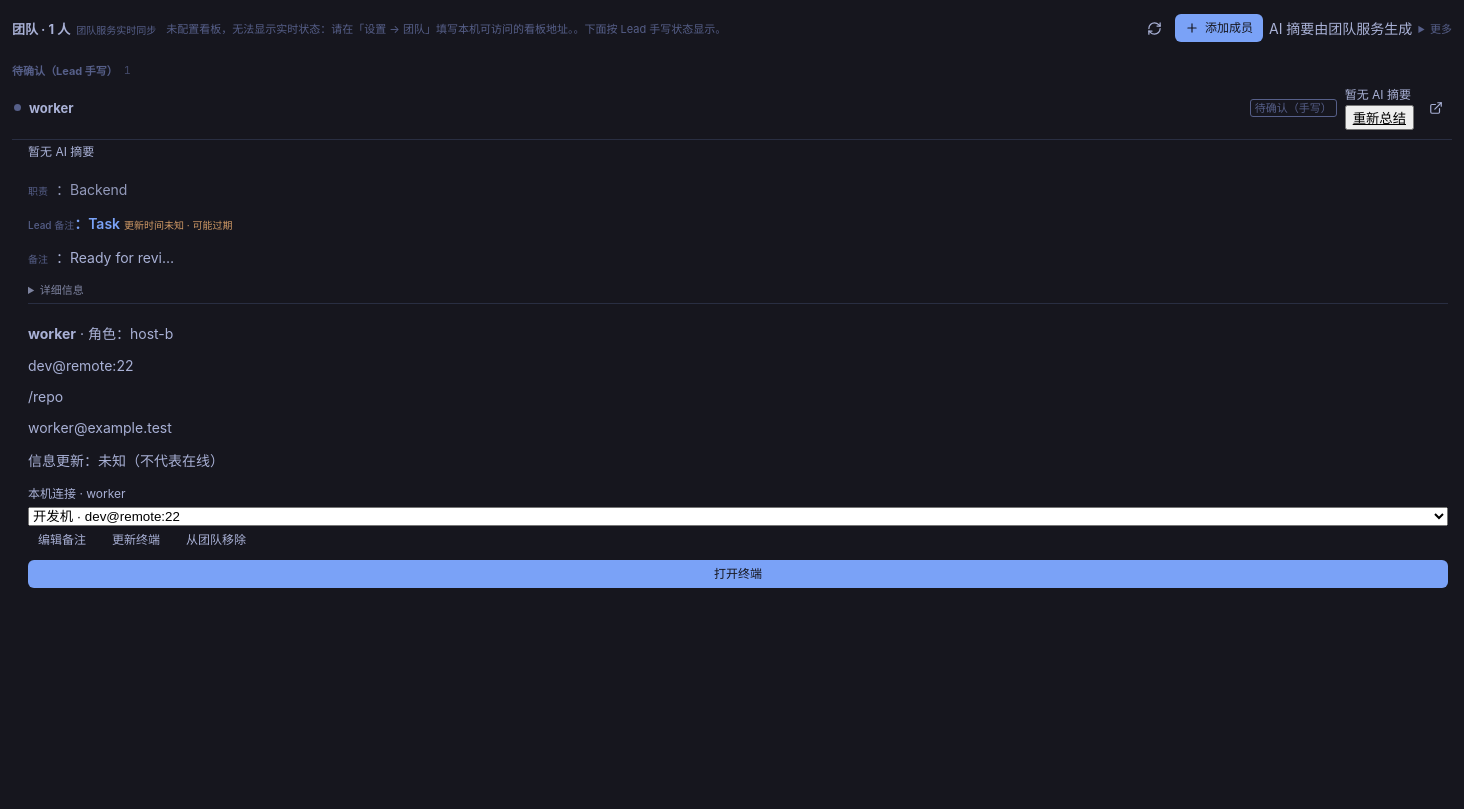
Scenario: shows cached member notes with a service notes editor
Check: the element named "成员摘要" shows "Task", box [88,215,120,232]
Click the button with aria-label "编辑备注 · worker": coordinates (62, 540) [28,526,96,554]
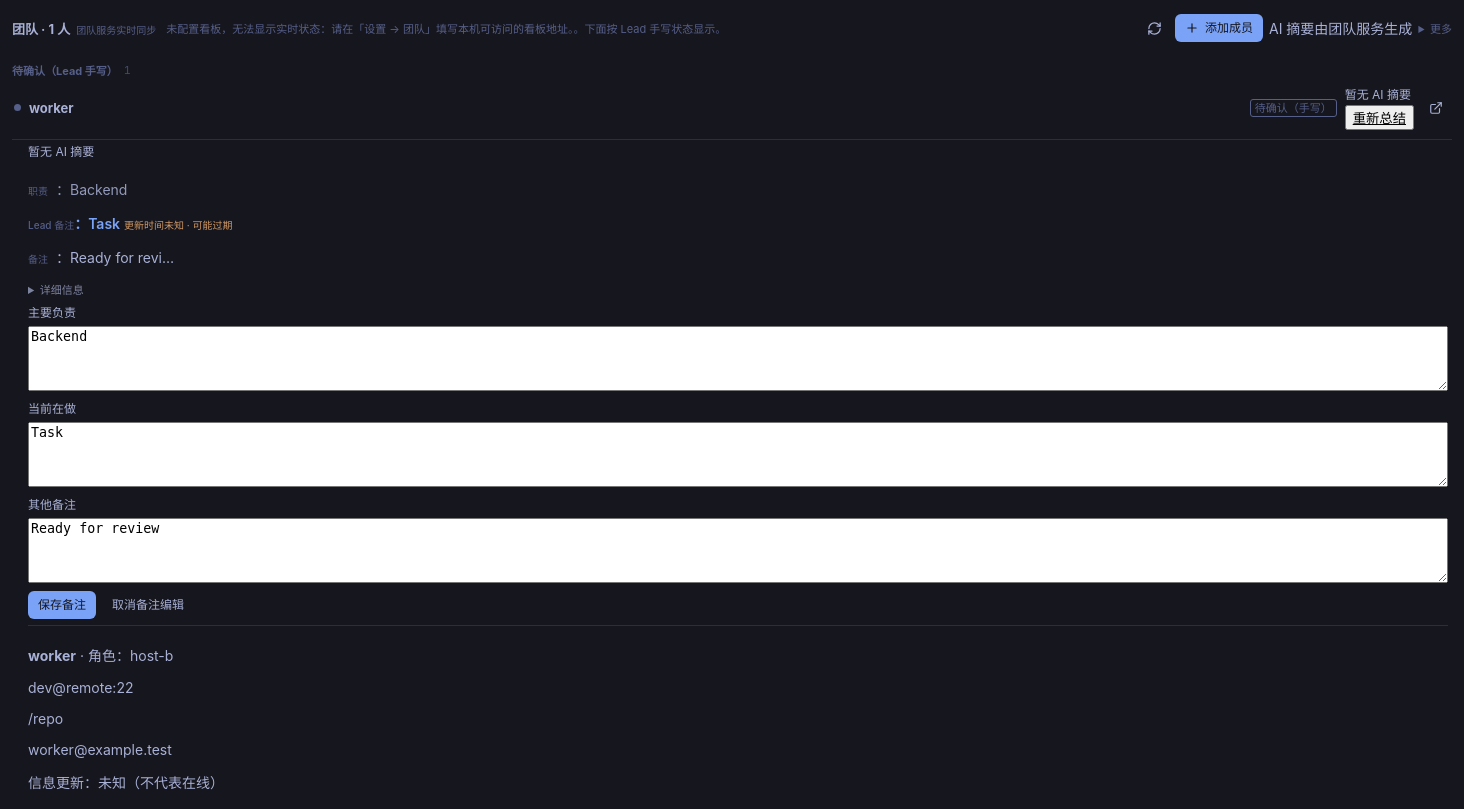
Check: the button "保存备注" is shown, box [28,591,96,619]
